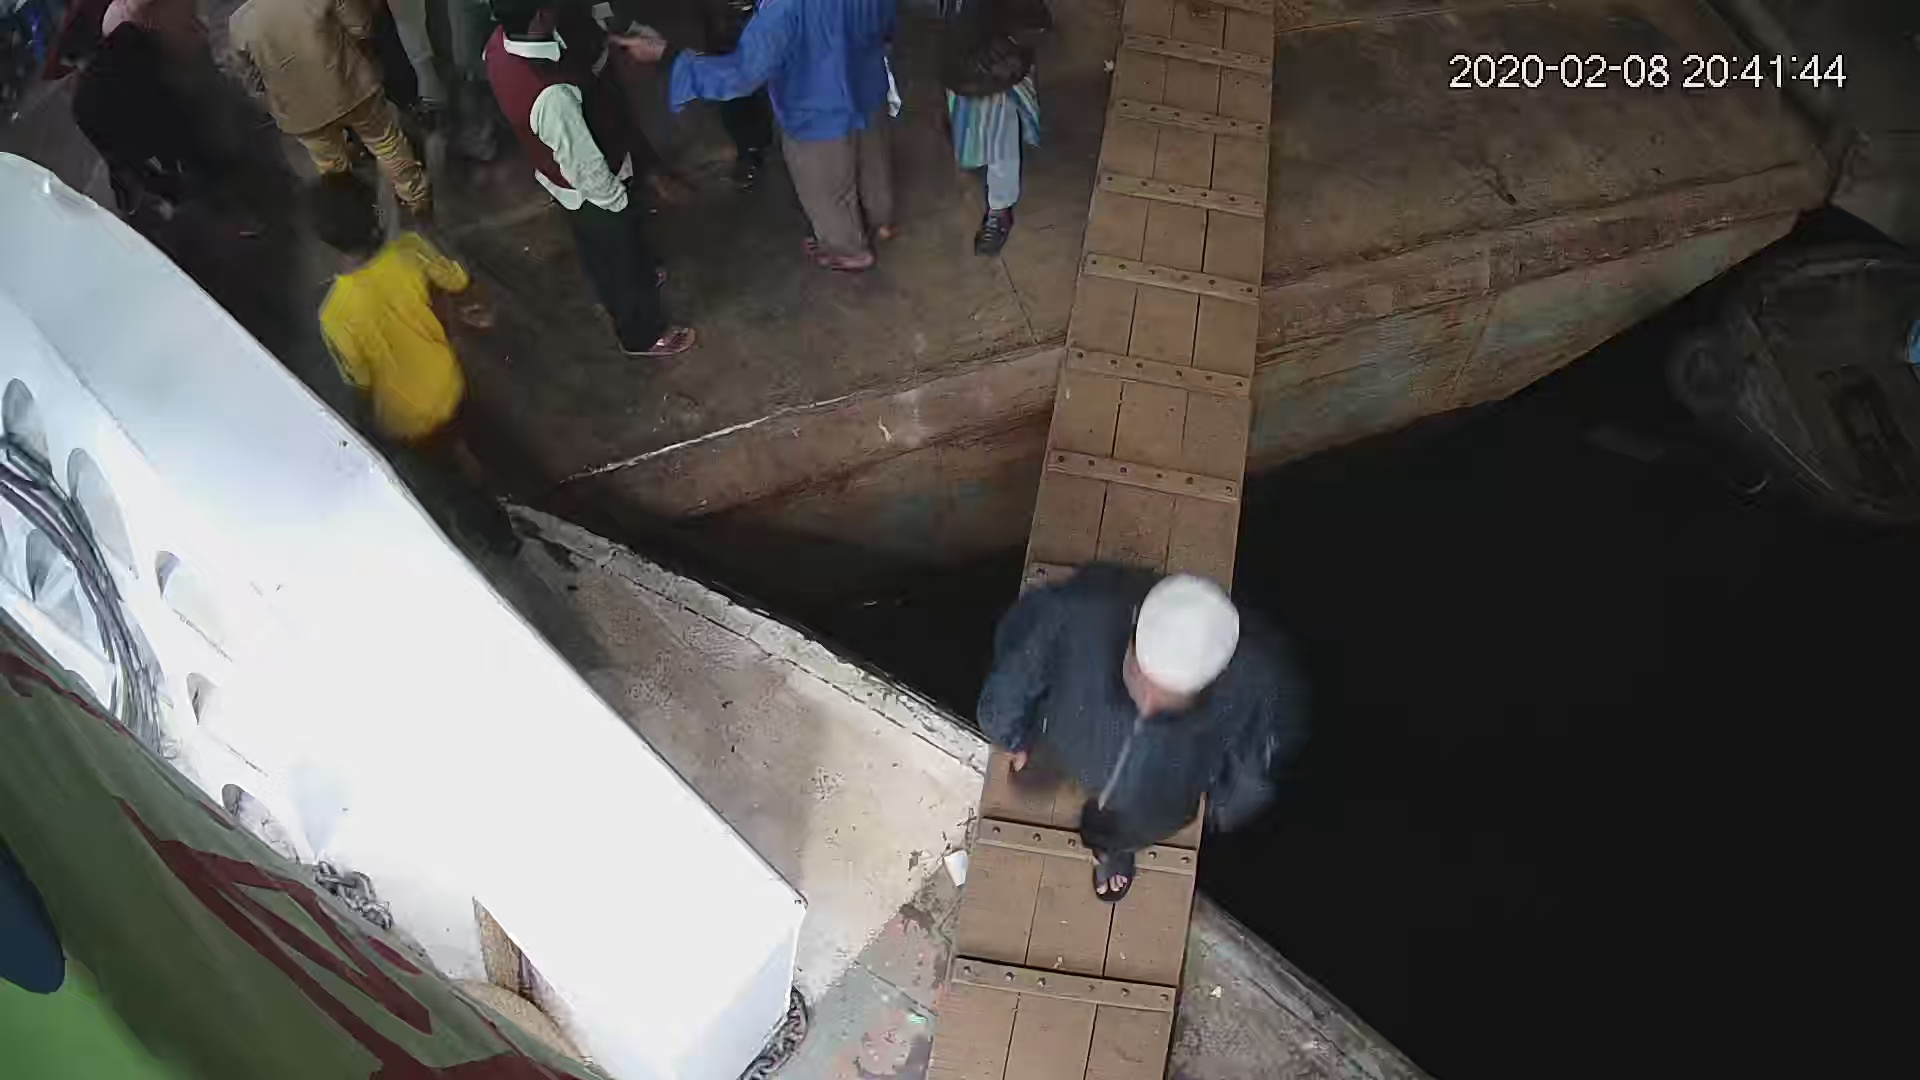person: (971, 553, 1311, 907), (479, 1, 696, 370), (310, 182, 525, 553), (217, 1, 438, 224), (745, 1, 900, 282), (928, 1, 1058, 253)
